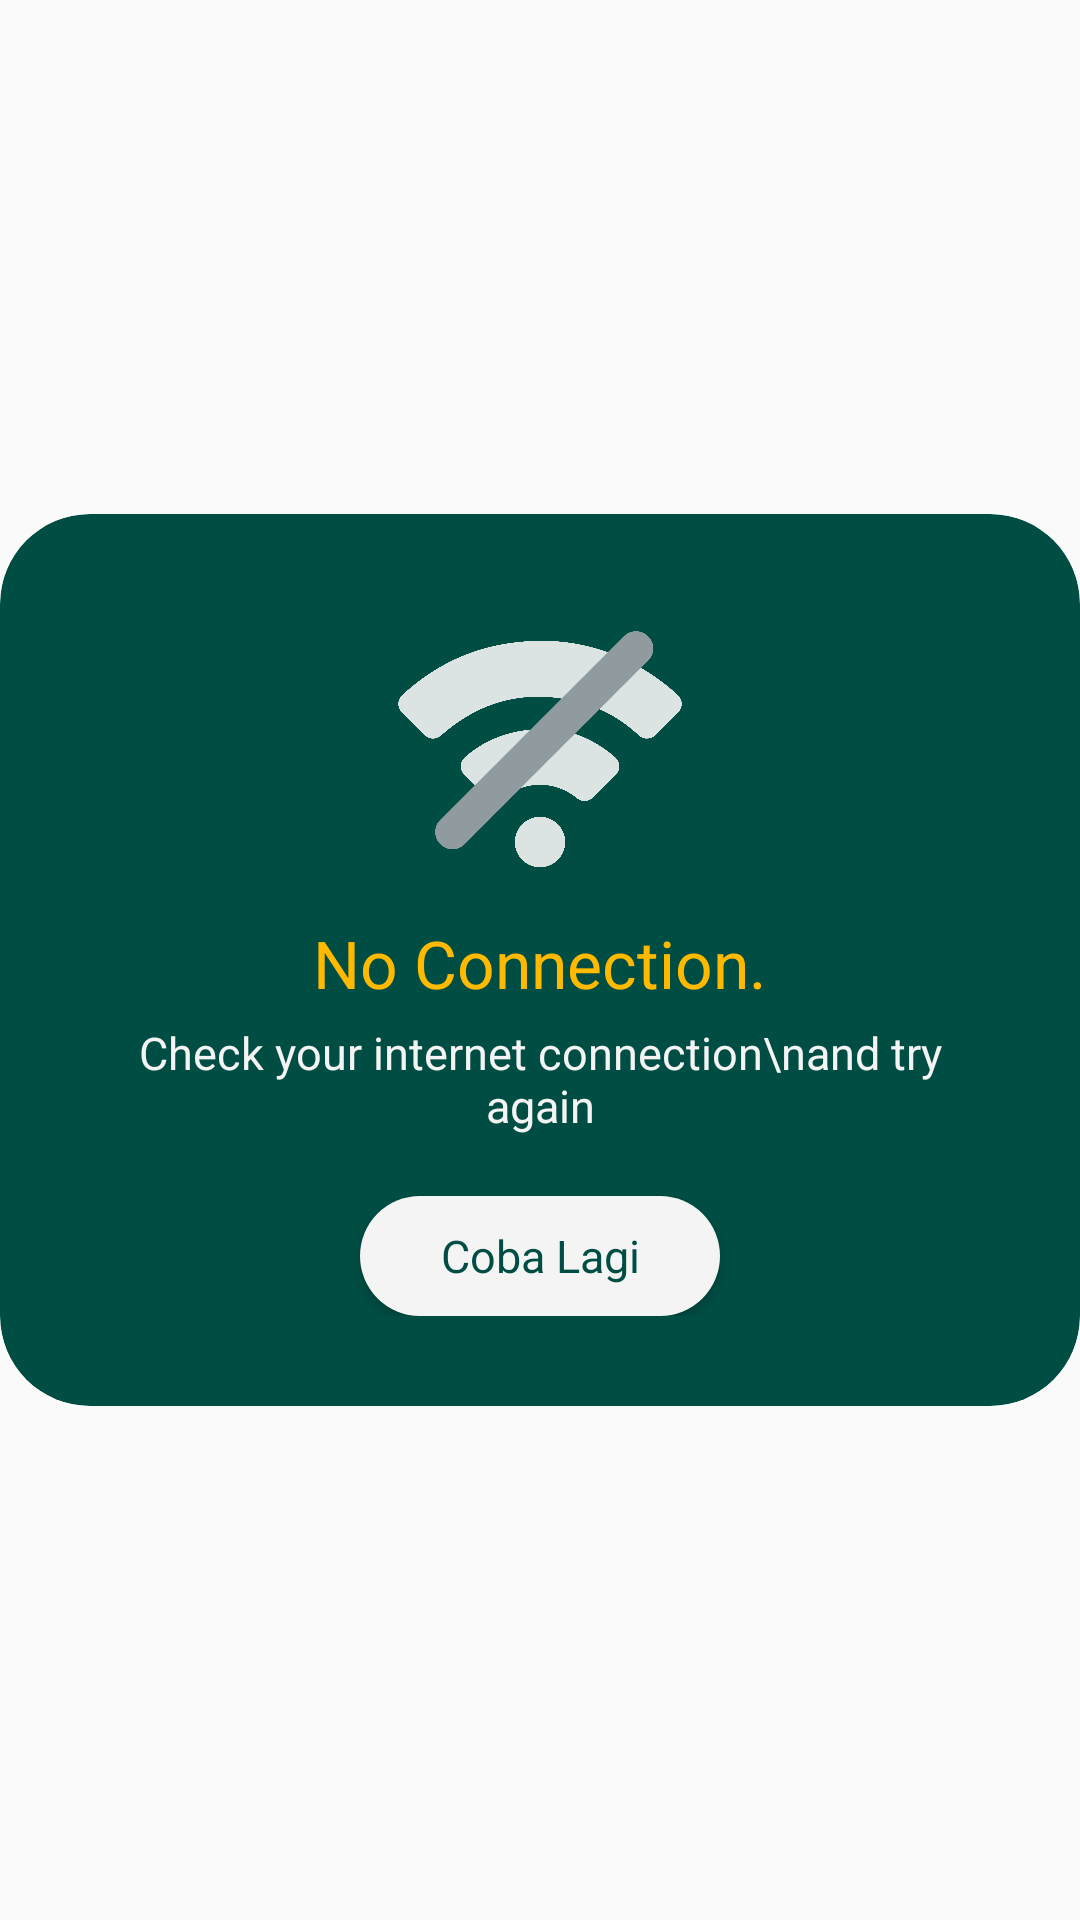

Named icons in this screenshot (1080x1920) and their bounding boxes, [x1, y1, x2, y2]:
offline: [398, 631, 682, 867]
